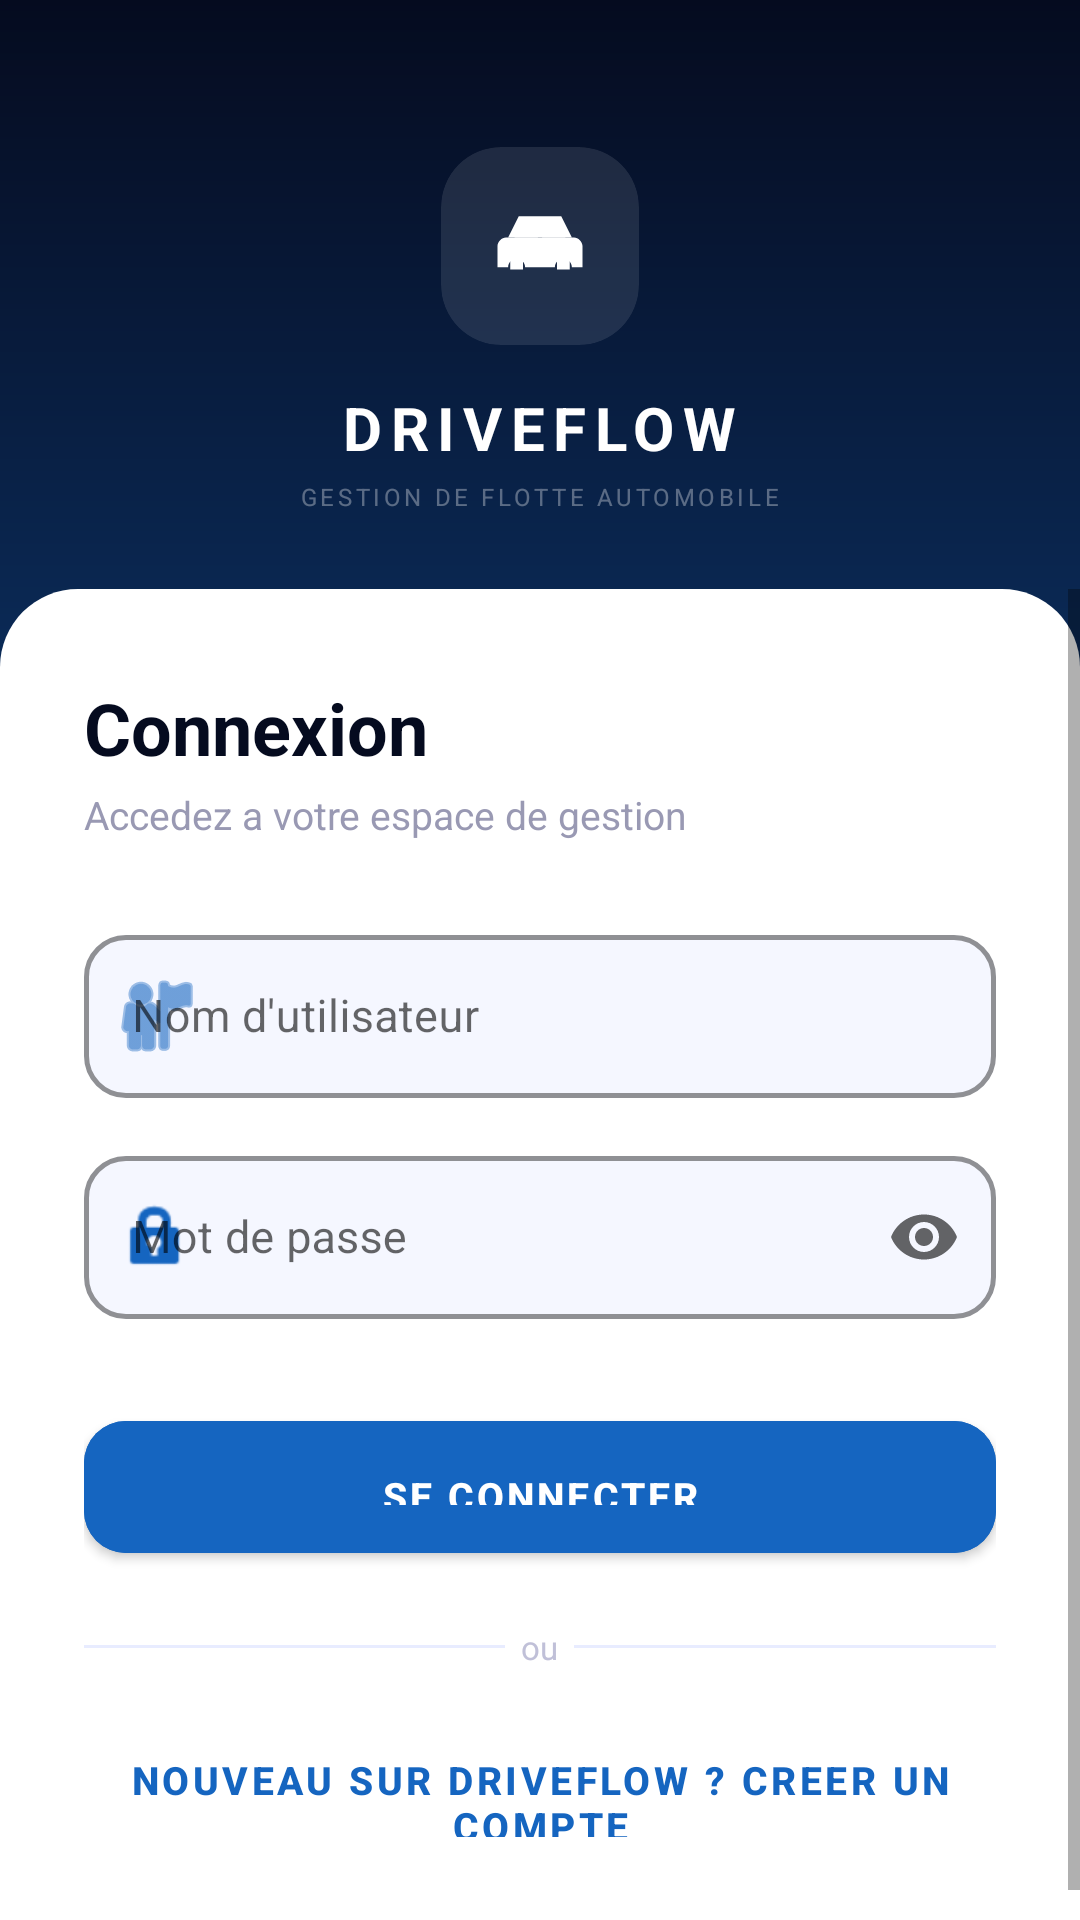

Screen size 1080×1920. Icon name, then its box in pixels as (x1, y1, x2, y2):
car: (497, 216, 583, 270)
